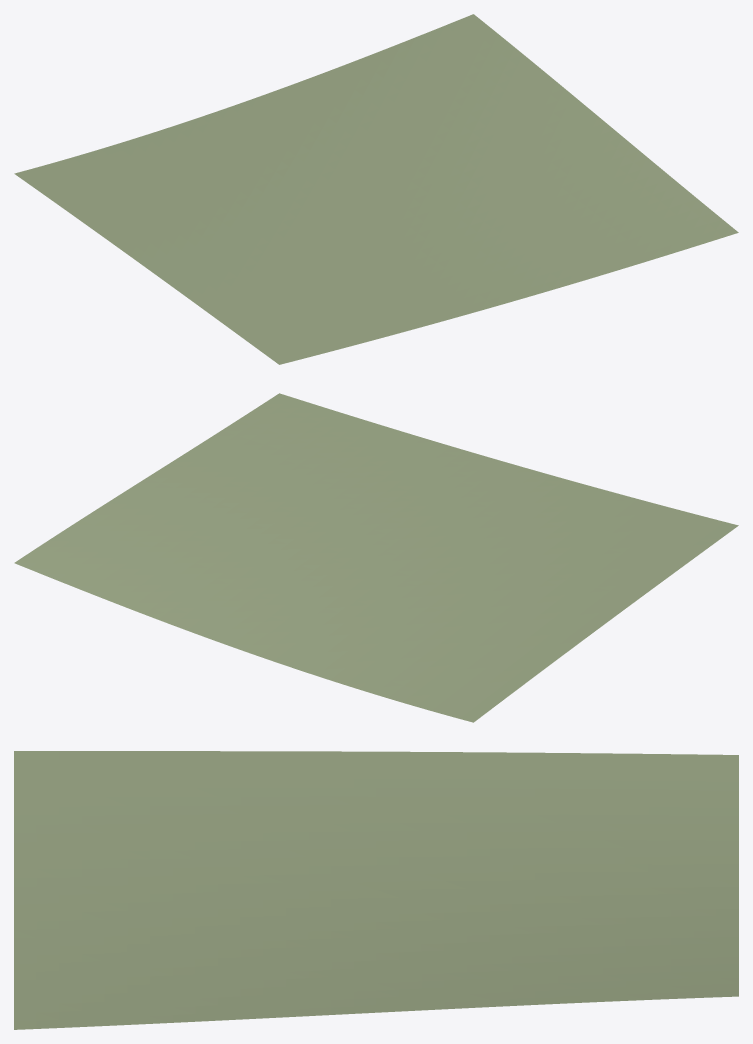
The model's file is desert-22-11.glb.
The picture shows the model from 3 angles, top to bottom: view 1: azimuth 30°, elevation 25°; view 2: azimuth 150°, elevation 25°; view 3: azimuth 270°, elevation 25°; orthographic projection. The views are drawn at different scales.
Parts seen in each view (by area): view 1: desert-22-11; view 2: desert-22-11; view 3: desert-22-11.
Boxes of the visible parts, x1,y1,x2,y2 form: desert-22-11: (14,14,738,364); desert-22-11: (14,393,738,722); desert-22-11: (14,751,738,1029).
Bounding box in the file's own units: 512 × 50.54 × 512.
